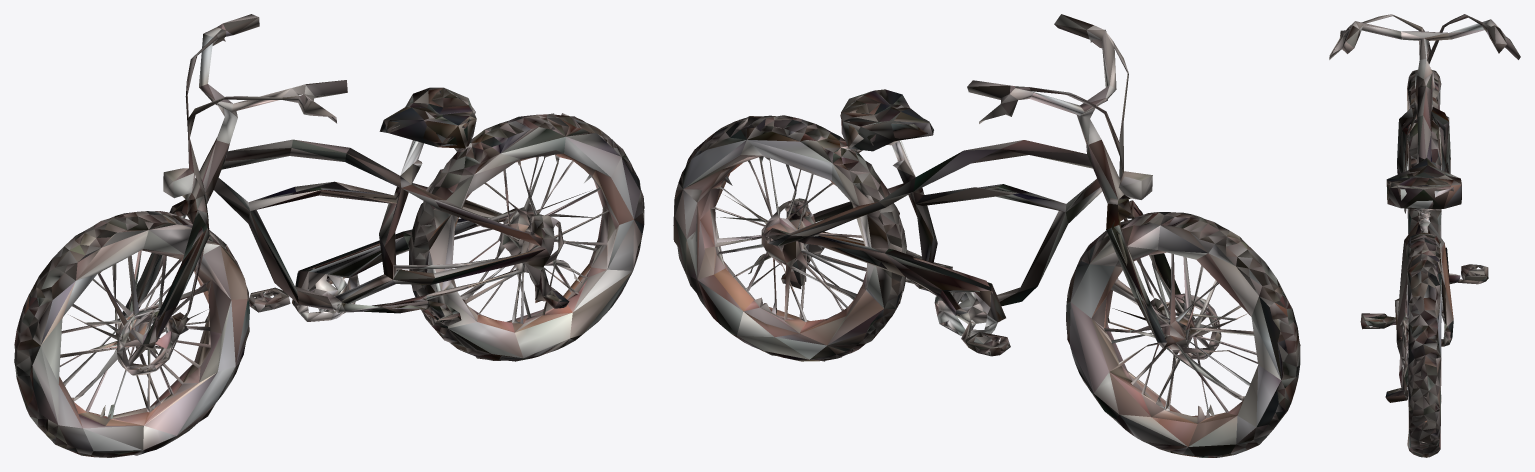
The model's file is bike1.glb.
3 views of the same model, side by side, from view 1: azimuth 30°, elevation 25°; view 2: azimuth 150°, elevation 25°; view 3: azimuth 270°, elevation 25° (orthographic). The views are drawn at different scales.
Visible parts, largest first — view 1: LO.001; view 2: LO.001; view 3: LO.001.
Part boxes in pixels (<box>): LO.001: <box>14,14,644,457</box>; LO.001: <box>673,14,1300,457</box>; LO.001: <box>1329,14,1520,457</box>.
Size of the model in its own units: 1.9 by 1.07 by 0.5955.
1 material, 1 textured.
